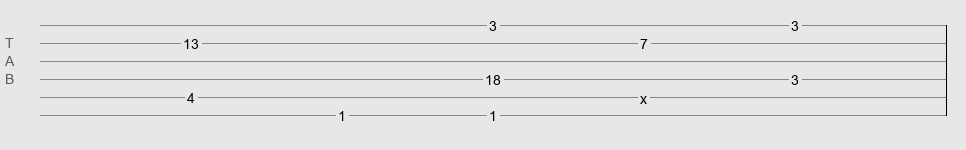1: (338, 108, 346, 118), (489, 108, 497, 118)
13: (183, 36, 199, 46)
18: (485, 72, 501, 82)
3: (489, 18, 497, 28), (791, 72, 799, 82), (791, 18, 799, 28)
4: (187, 90, 195, 100)
7: (640, 36, 648, 46)
x: (640, 91, 647, 99)
